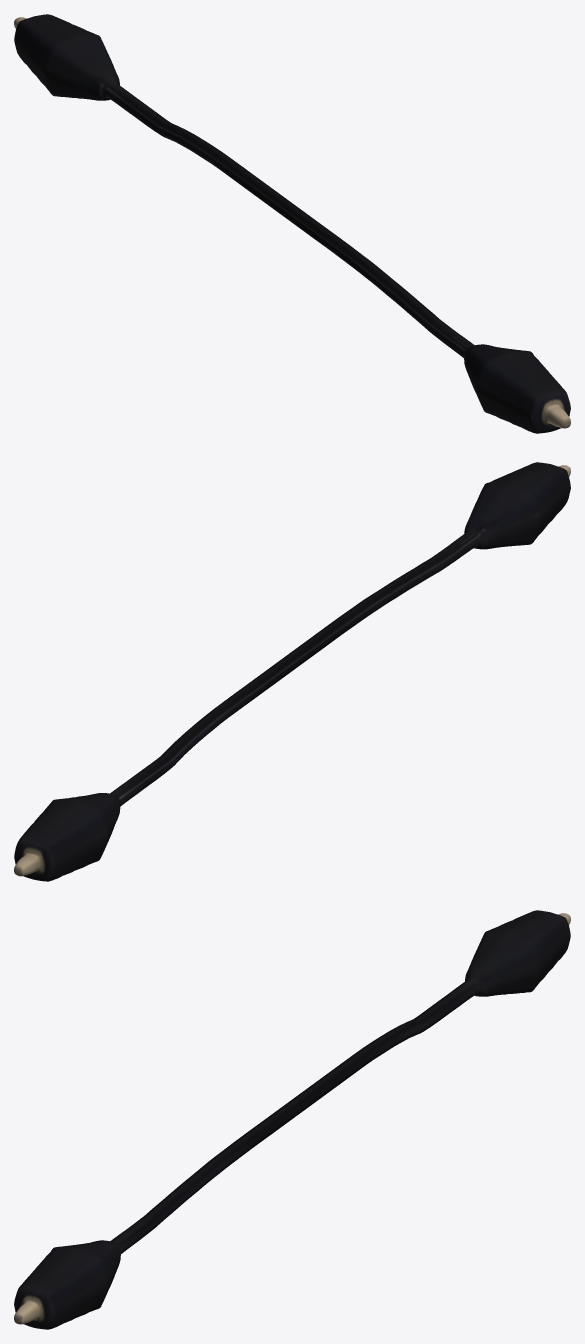
File: base_basic_pbr.fbx
The picture shows the model from 3 angles, top to bottom: view 1: azimuth 30°, elevation 25°; view 2: azimuth 150°, elevation 25°; view 3: azimuth 330°, elevation 25°; orthographic projection.
Visible parts, largest first — view 1: model; view 2: model; view 3: model.
Part boxes in pixels (x1=…): model: x1=14, y1=14, x2=570, y2=433; model: x1=14, y1=462, x2=570, y2=881; model: x1=14, y1=910, x2=570, y2=1329.
Size of the model in its own units: 12.45 by 11.27 by 191.
Materials: 1 (1 with a texture image).
